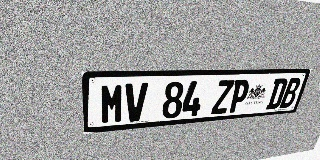4: (181, 81, 205, 117)
8: (161, 81, 185, 119)
B: (279, 78, 302, 108)
D: (265, 78, 289, 109)
M: (100, 83, 125, 124)
P: (227, 79, 251, 113)
V: (124, 82, 148, 122)
Z: (211, 80, 235, 114)
